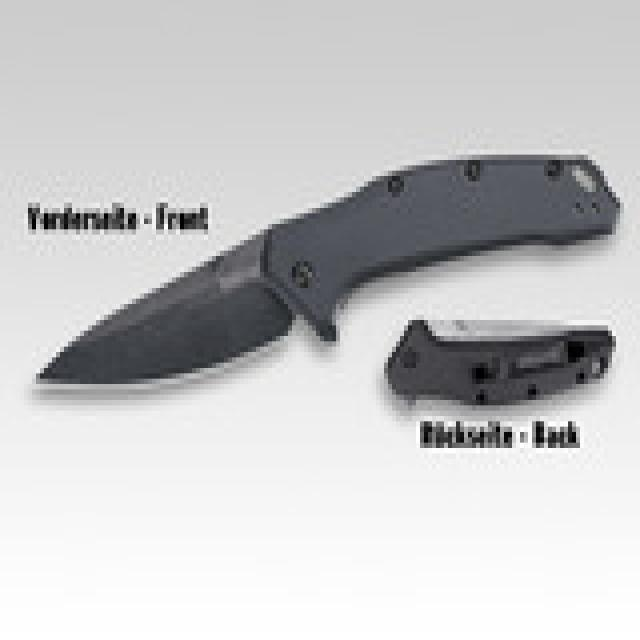Knife: (37, 125, 621, 412)
